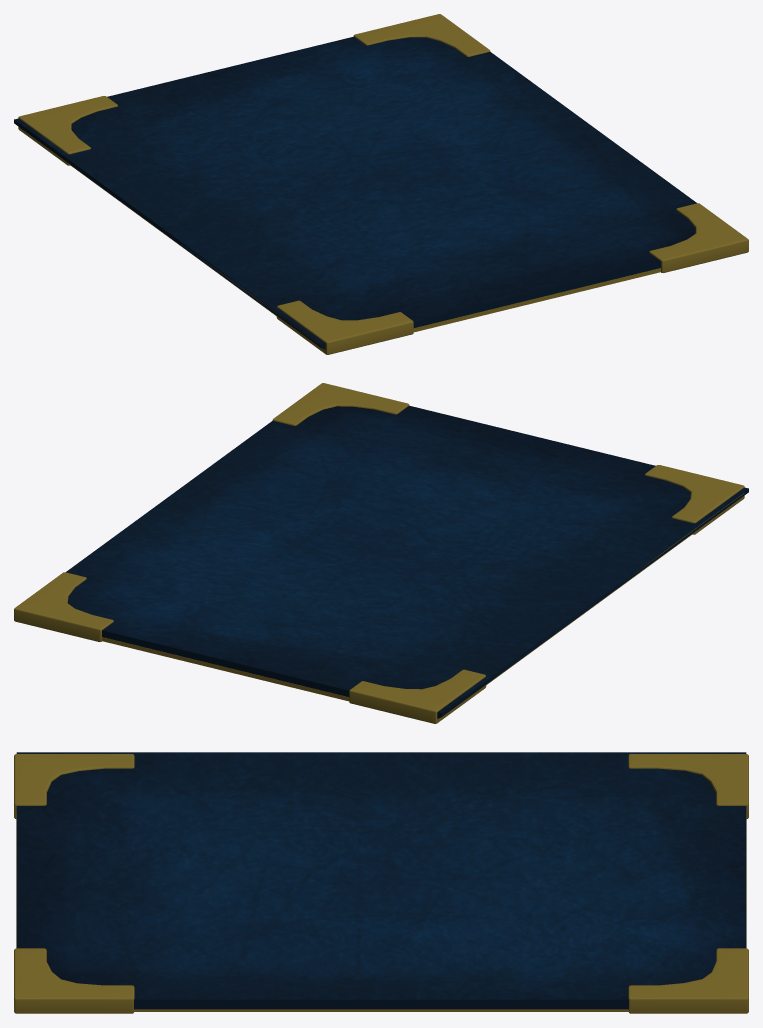
Rendered from SpellbookFinal_BackCover 1.fbx.
3 renders of one model, top to bottom at view 1: azimuth 30°, elevation 25°; view 2: azimuth 150°, elevation 25°; view 3: azimuth 270°, elevation 25°, orthographic. The views are drawn at different scales.
Visible parts, largest first — view 1: backcover, corner_backbottomleft, corner_backbottomright, corner_backtopleft, corner_backtopright, frame_back; view 2: backcover, corner_backtopleft, corner_backtopright, corner_backbottomleft, corner_backbottomright, frame_back; view 3: backcover, corner_backtopright, corner_backbottomright, corner_backbottomleft, corner_backtopleft, frame_back.
Part boxes in pixels (x1=…): backcover: x1=14, y1=36, x2=696, y2=349; corner_backbottomleft: x1=276, y1=300, x2=413, y2=354; corner_backbottomright: x1=649, y1=203, x2=748, y2=272; corner_backtopleft: x1=18, y1=96, x2=117, y2=165; corner_backtopright: x1=353, y1=14, x2=490, y2=56; frame_back: x1=70, y1=164, x2=660, y2=332; backcover: x1=66, y1=405, x2=748, y2=718; corner_backtopleft: x1=349, y1=669, x2=486, y2=723; corner_backtopright: x1=14, y1=572, x2=113, y2=641; corner_backbottomleft: x1=645, y1=465, x2=744, y2=534; corner_backbottomright: x1=272, y1=383, x2=409, y2=425; frame_back: x1=102, y1=530, x2=692, y2=701; backcover: x1=16, y1=752, x2=746, y2=1009; corner_backtopright: x1=628, y1=948, x2=748, y2=1013; corner_backbottomright: x1=14, y1=948, x2=134, y2=1013; corner_backbottomleft: x1=14, y1=754, x2=134, y2=818; corner_backtopleft: x1=628, y1=754, x2=748, y2=818; frame_back: x1=16, y1=814, x2=746, y2=1011.
Bounding box in the file's own units: 27.36 × 1.07 × 34.27.
